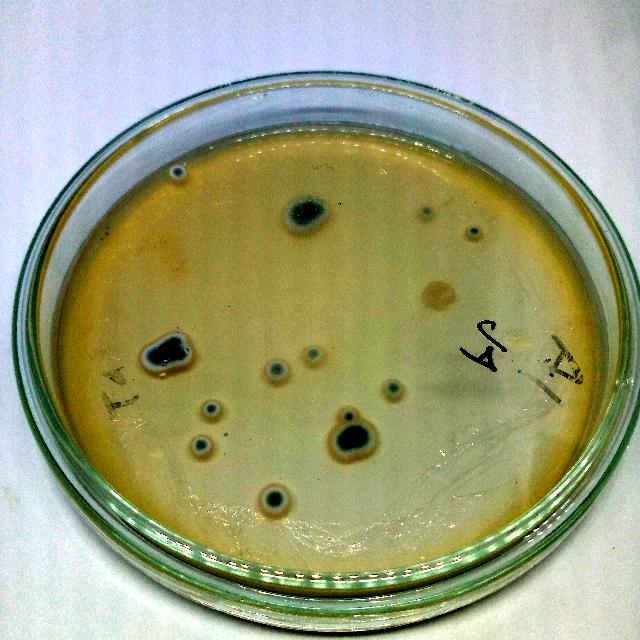colony: (284, 195, 328, 232), (418, 277, 460, 313), (258, 484, 292, 518), (341, 421, 375, 452), (140, 344, 170, 376), (184, 431, 216, 459), (262, 356, 290, 384), (198, 396, 226, 424), (170, 344, 196, 370), (336, 404, 362, 428), (379, 378, 405, 402), (332, 432, 354, 456), (302, 342, 324, 366), (164, 328, 188, 349), (465, 223, 483, 241), (167, 164, 187, 180), (419, 204, 435, 222)
